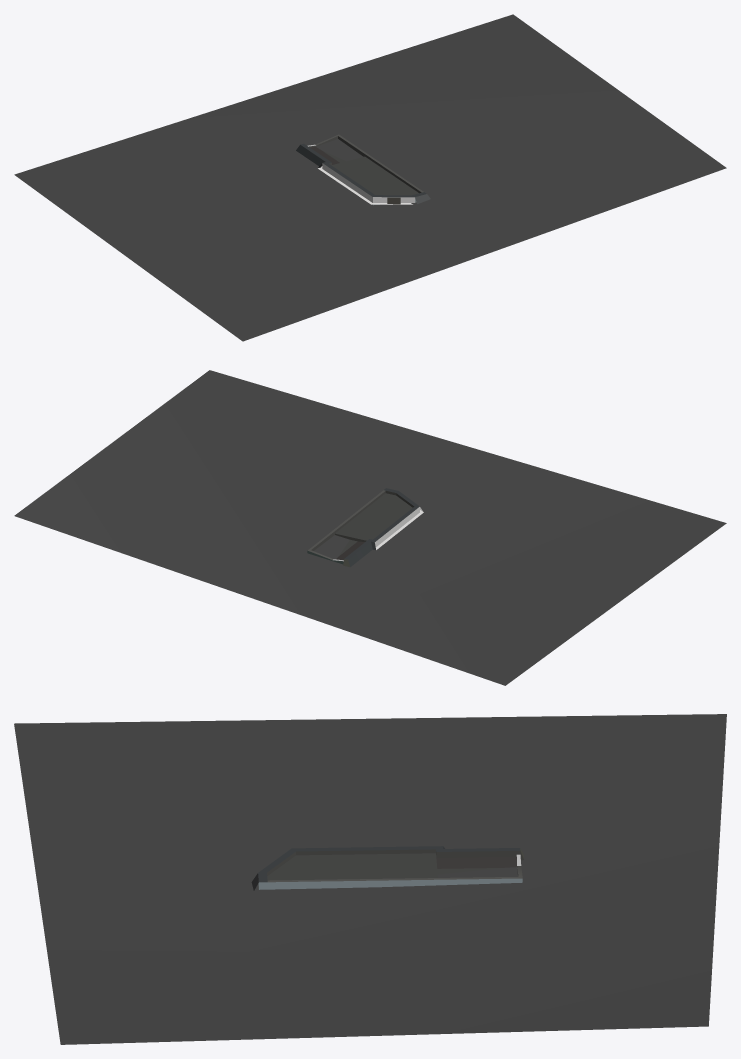
File: jax-liquors.glb
The picture shows the model from 3 angles, top to bottom: view 1: azimuth 30°, elevation 25°; view 2: azimuth 150°, elevation 25°; view 3: azimuth 270°, elevation 25°; orthographic projection. The views are drawn at different scales.
Parts seen in each view (by area): view 1: LOD0; view 2: LOD0; view 3: LOD0.
Part boxes in pixels (x1,y1,x2,y2): LOD0: (14,14,726,341); LOD0: (14,370,726,685); LOD0: (14,714,726,1044).
Size of what is drawn, in the model's own units: 135 by 12.31 by 105.
Materials: 2 (2 with a texture image).
